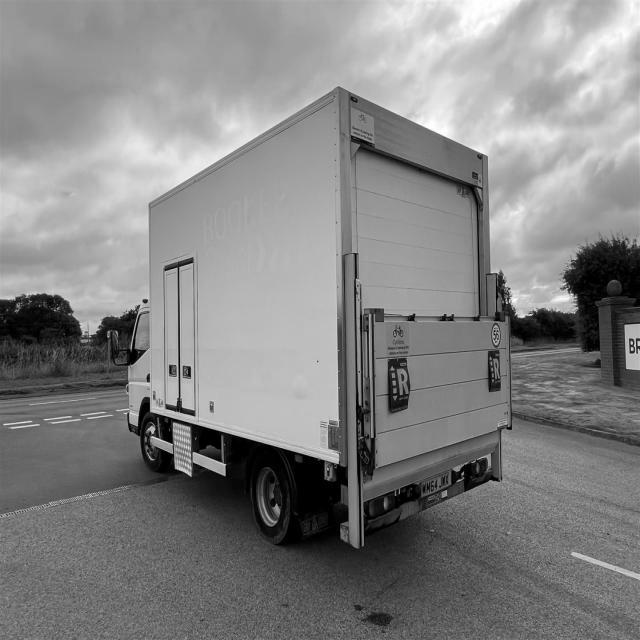truck: (107, 281, 178, 449)
